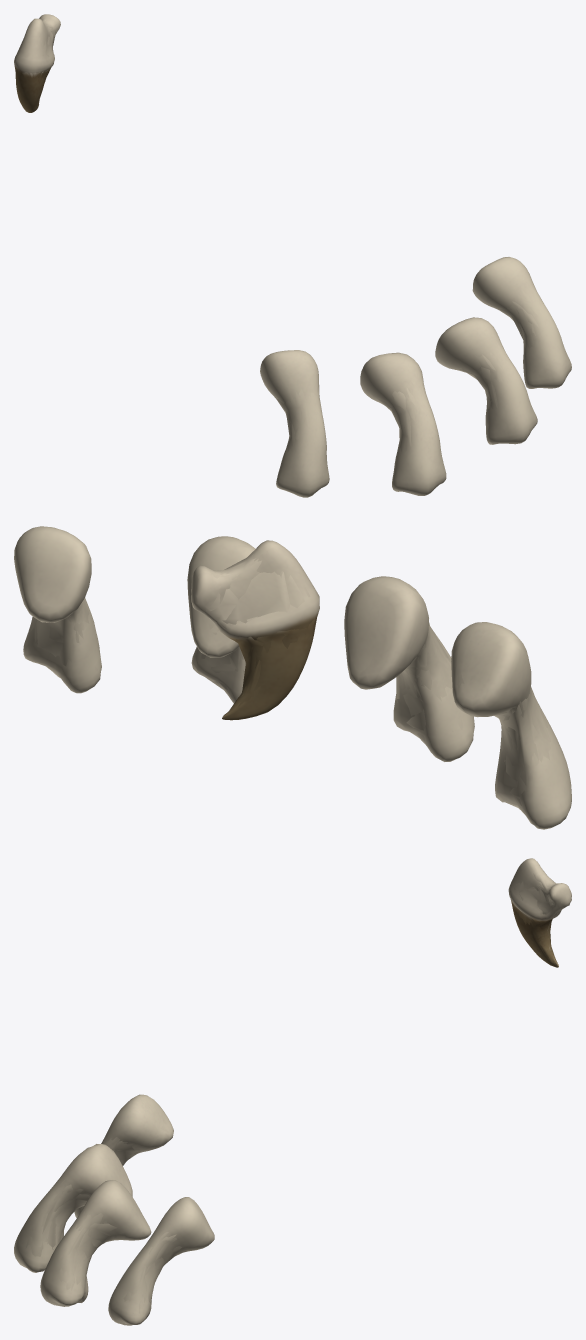
The model's file is FL 2nd Phalanx.fbx.
3 views of the same model, one above another, from view 1: azimuth 30°, elevation 25°; view 2: azimuth 150°, elevation 25°; view 3: azimuth 270°, elevation 25° (orthographic). The views are drawn at different scales.
Parts seen in each view (by area): view 1: FL 2nd Phalanx high, FL 2nd Phalanx, FL 2nd Phalanx low; view 2: FL 2nd Phalanx high, FL 2nd Phalanx, FL 2nd Phalanx low; view 3: FL 2nd Phalanx high, FL 2nd Phalanx, FL 2nd Phalanx low.
Boxes of the visible parts, <box> form: FL 2nd Phalanx high: <box>14,14,571,497</box>; FL 2nd Phalanx: <box>15,21,567,493</box>; FL 2nd Phalanx low: <box>30,18,538,450</box>; FL 2nd Phalanx high: <box>14,526,571,829</box>; FL 2nd Phalanx: <box>27,549,550,815</box>; FL 2nd Phalanx low: <box>35,558,549,809</box>; FL 2nd Phalanx high: <box>14,858,571,1325</box>; FL 2nd Phalanx: <box>19,866,570,1323</box>; FL 2nd Phalanx low: <box>42,869,560,1322</box>.
Bounding box in the file's own units: 10.6 × 9.27 × 13.79.
